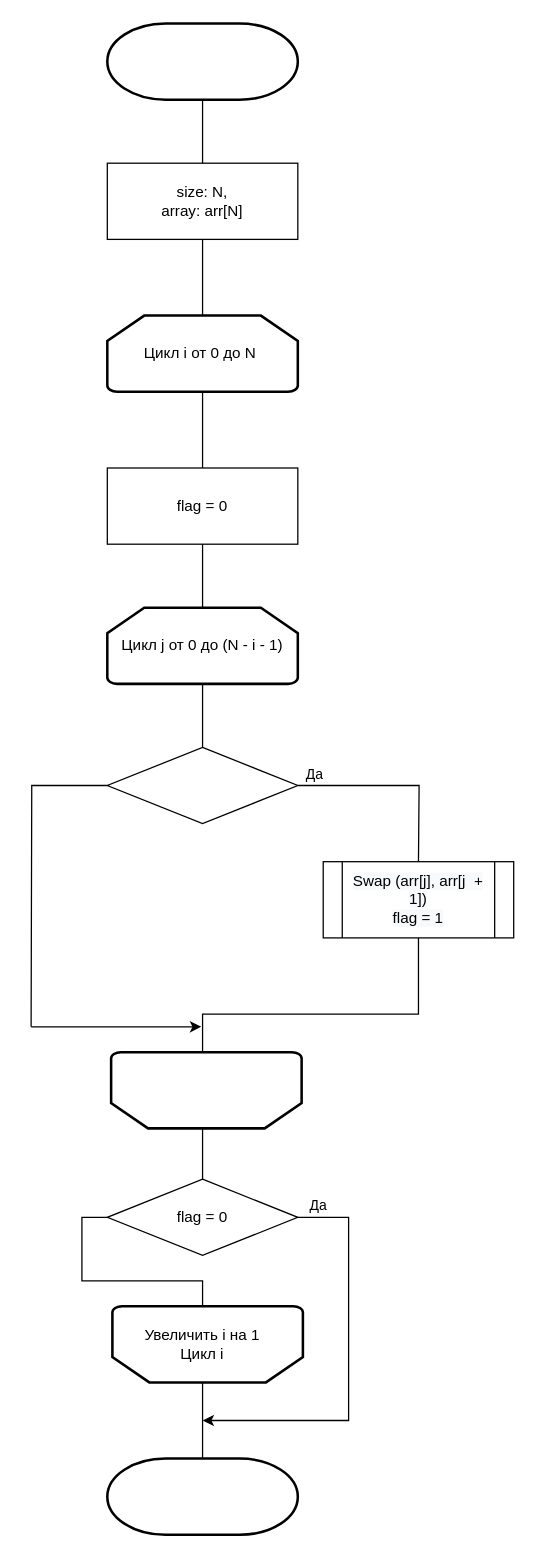
Image size: 536x1557. Some labels were removed from this diagram. Each missing label, with the centre of its shape:
arr[j] > arr[j + 1]: point 202,785
Конец: point 201,1496
Начало: point 201,61
Увеличить j на 1 Цикл j: point 205,1089
